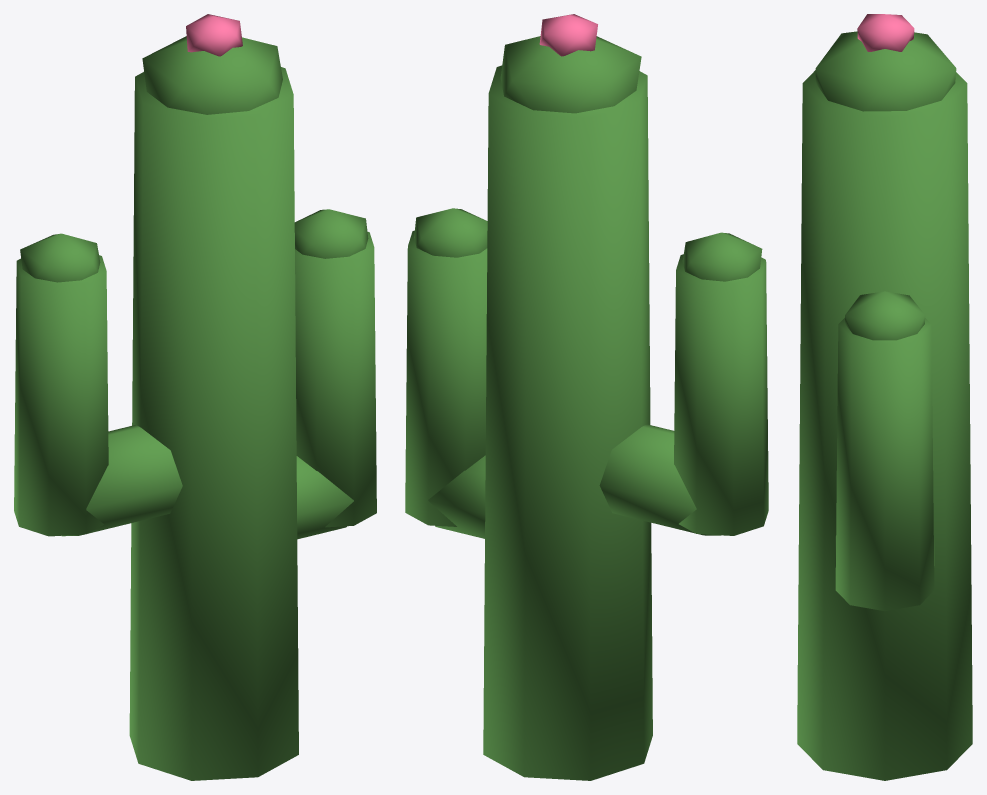
File: Canyon_Cactus0.fbx
3 views of the same model, side by side, from view 1: azimuth 30°, elevation 25°; view 2: azimuth 150°, elevation 25°; view 3: azimuth 270°, elevation 25° (orthographic).
Visible parts, largest first — view 1: Canyon_Cactus0; view 2: Canyon_Cactus0; view 3: Canyon_Cactus0.
Part boxes in pixels (bbox=[...]): Canyon_Cactus0: bbox=[14, 14, 376, 780]; Canyon_Cactus0: bbox=[405, 14, 768, 780]; Canyon_Cactus0: bbox=[797, 14, 972, 780].
Size of the model in its own units: 1.49 by 2.93 by 0.64.
